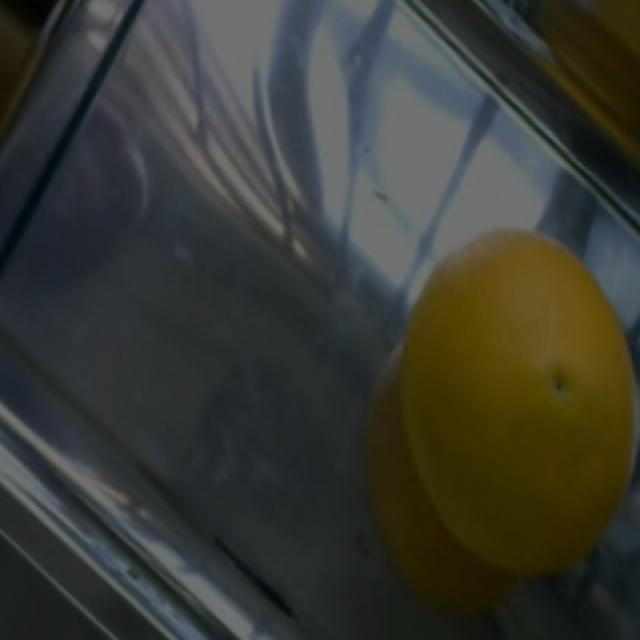Fruit: (380, 207, 637, 497)
